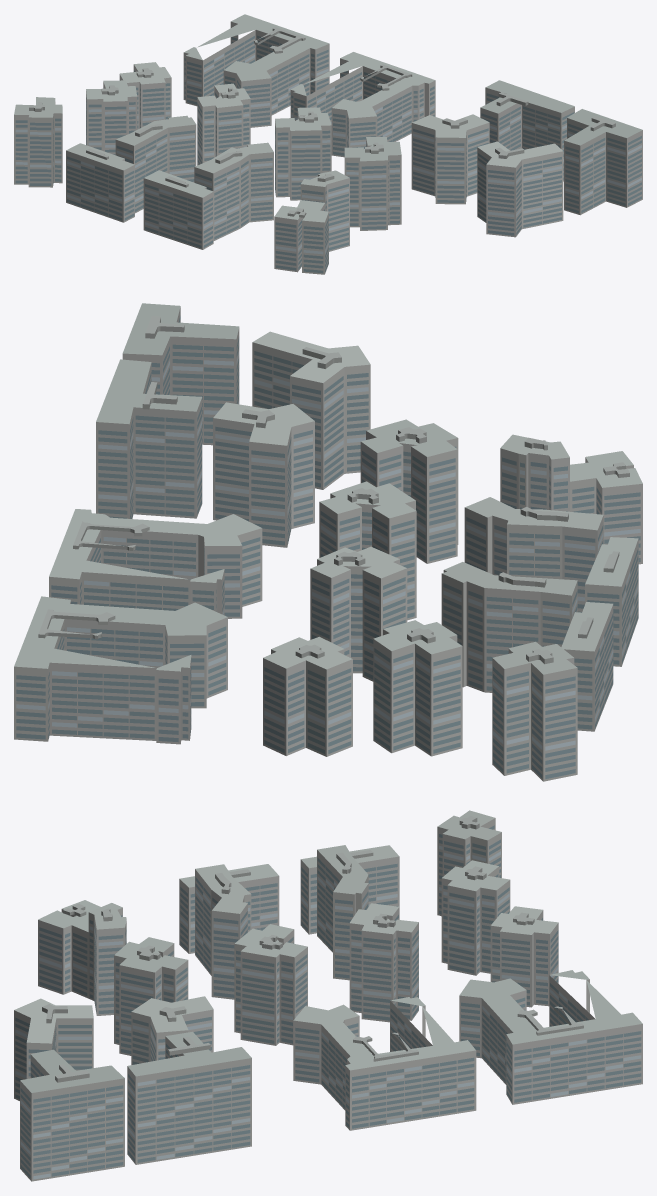
File: apt-a15879502.glb
3 renders of one model, top to bottom at view 1: azimuth 30°, elevation 25°; view 2: azimuth 150°, elevation 25°; view 3: azimuth 270°, elevation 25°, orthographic. The views are drawn at different scales.
Parts seen in each view (by area): view 1: apt-a15879502; view 2: apt-a15879502; view 3: apt-a15879502.
Part boxes in pixels (x1,y1,x2,y2): apt-a15879502: (14, 14, 642, 274); apt-a15879502: (14, 303, 642, 781); apt-a15879502: (14, 810, 642, 1181).
Bounding box in the file's own units: 288 × 44 × 271.
